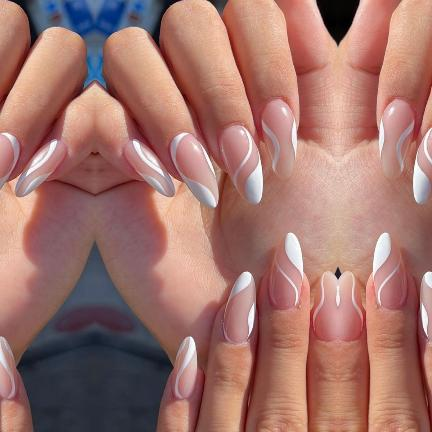Nail: (168, 132, 218, 209), (217, 124, 262, 205), (122, 139, 174, 198), (14, 139, 66, 198), (260, 100, 296, 181), (378, 100, 414, 181), (267, 232, 302, 312), (372, 232, 407, 312), (222, 271, 255, 345), (311, 271, 337, 342), (337, 271, 363, 342), (170, 336, 196, 400), (412, 126, 432, 205), (0, 336, 18, 400), (0, 132, 20, 188), (419, 271, 432, 344)
